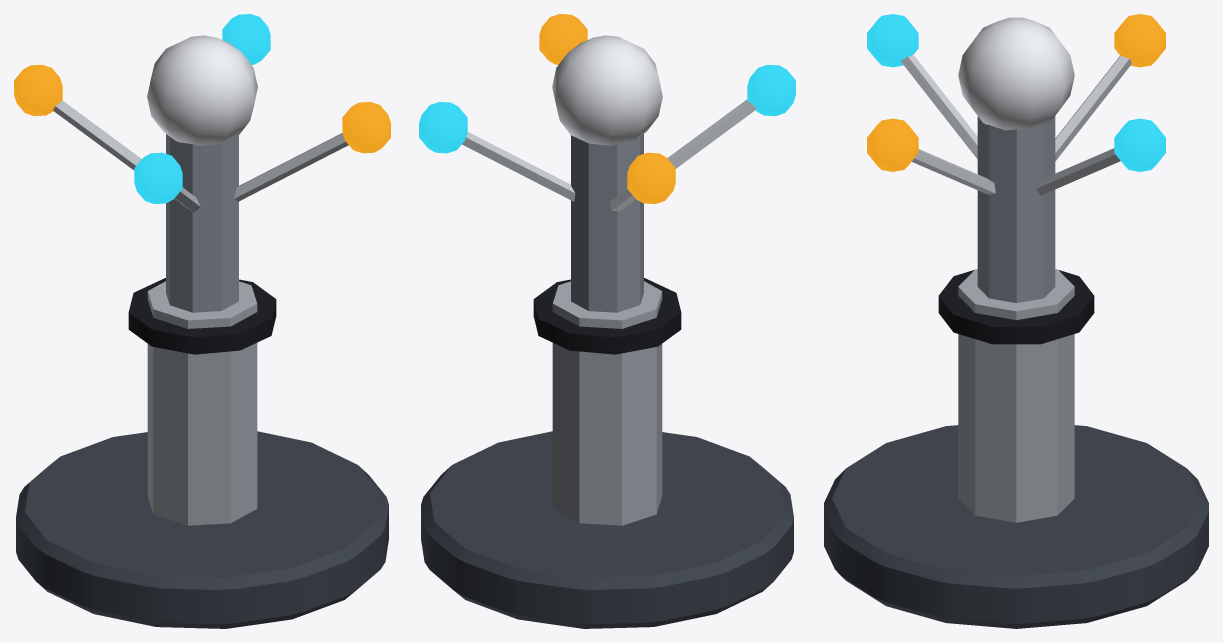
Rendered from instrument_sensor_array.glb.
The picture shows the model from 3 angles, left to right: view 1: azimuth 30°, elevation 25°; view 2: azimuth 150°, elevation 25°; view 3: azimuth 270°, elevation 25°; orthographic projection. The views are drawn at different scales.
Parts seen in each view (by area): view 1: instrument_sensor_array; view 2: instrument_sensor_array; view 3: instrument_sensor_array.
Boxes of the visible parts, bbox=[...] form: instrument_sensor_array: bbox=[14, 14, 390, 628]; instrument_sensor_array: bbox=[419, 14, 795, 628]; instrument_sensor_array: bbox=[824, 14, 1208, 628].
Bounding box in the file's own units: 0.198 × 0.3 × 0.198.
